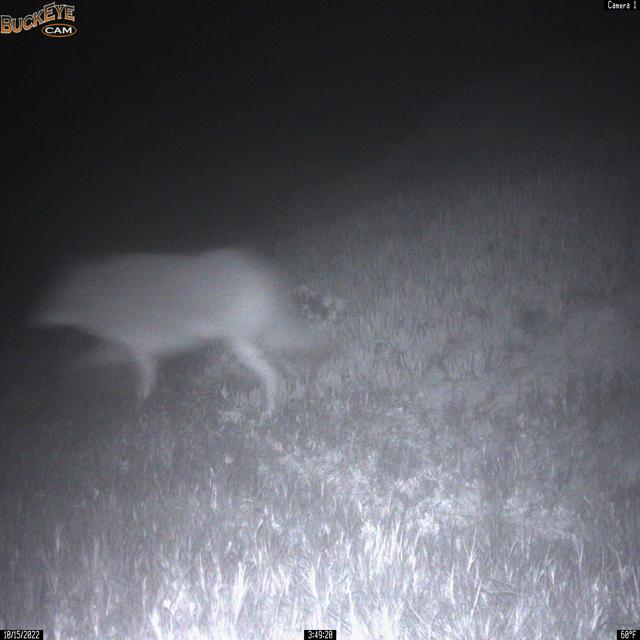coyote: (24, 244, 339, 427)
